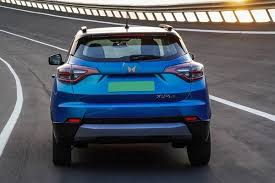XUV 400: (46, 18, 212, 167)
